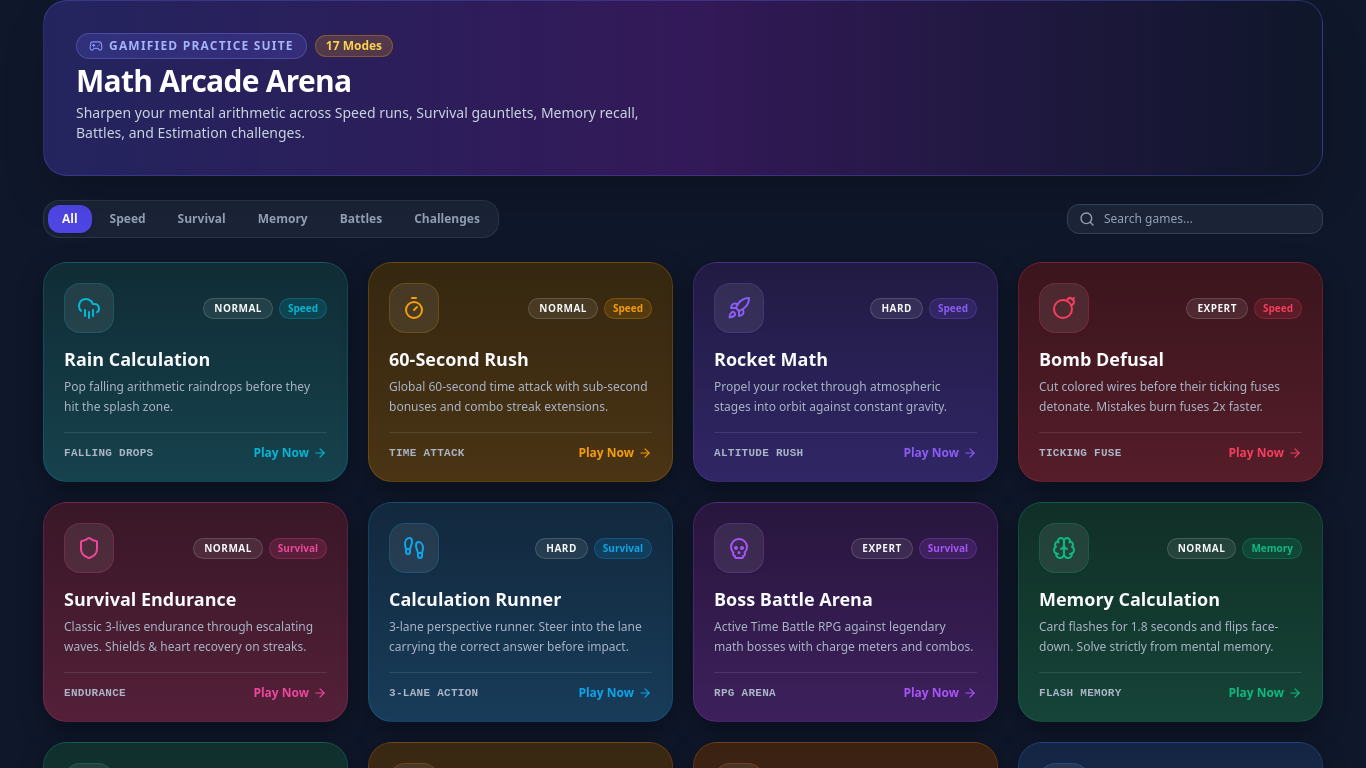
GamesHubView › filters games by search text input
Type "Rocket" into the field with placeholder "Search games..." at [1195, 219], box [1067,204,1323,234]
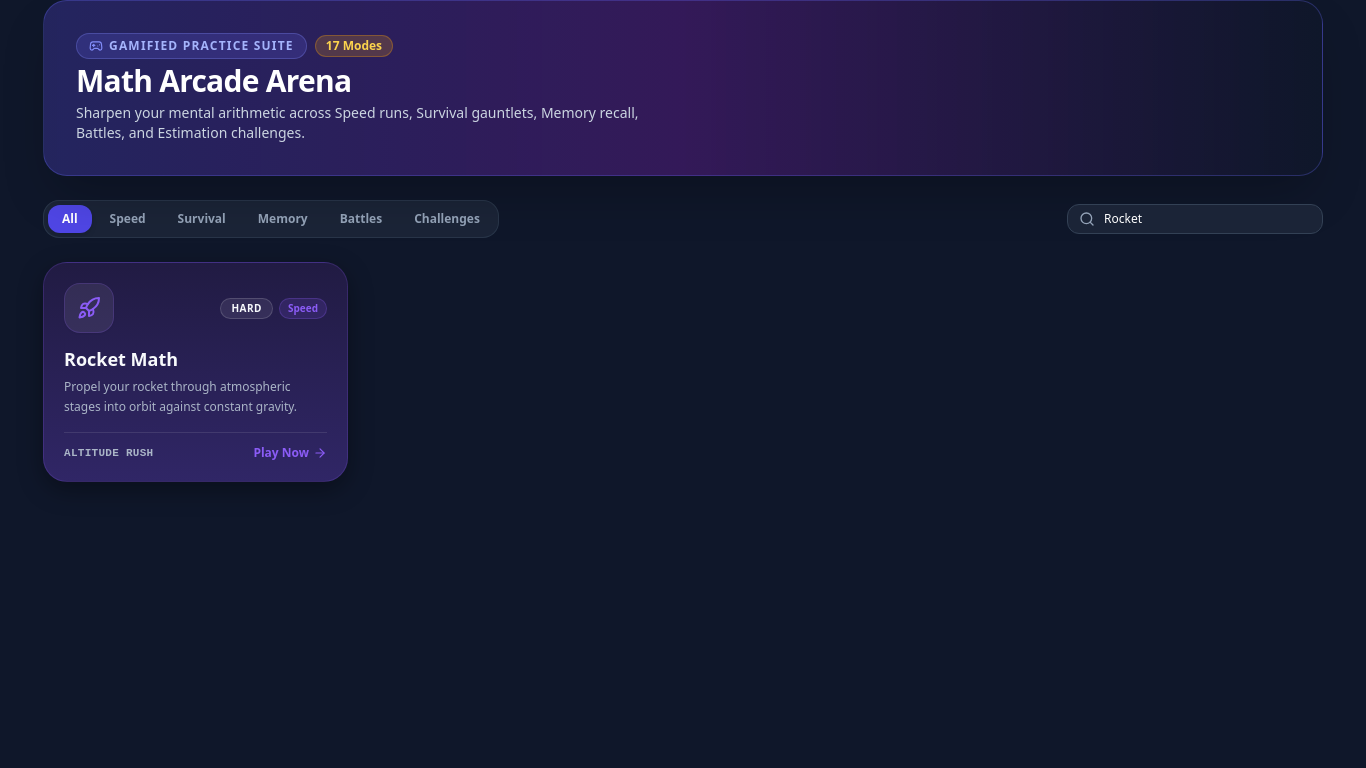
Expected: the heading "Rocket Math" is shown, [64,347,178,371]
Expected: the heading "Rain Calculation" is gone
